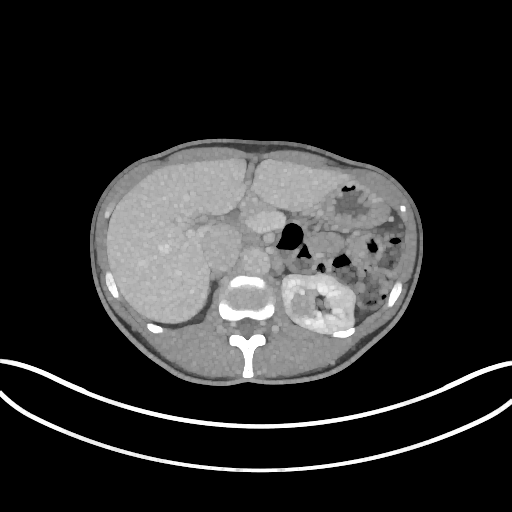Lesion: (288, 294, 315, 326)
